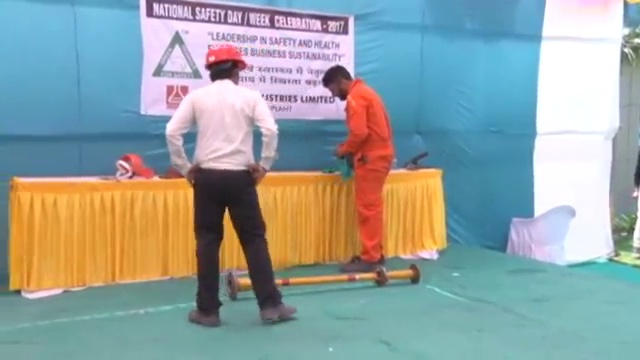helmet: (203, 41, 248, 72)
helmet_off: (320, 65, 356, 101)
helmet_on: (201, 41, 248, 87)
person: (165, 41, 300, 324), (318, 64, 391, 271)
